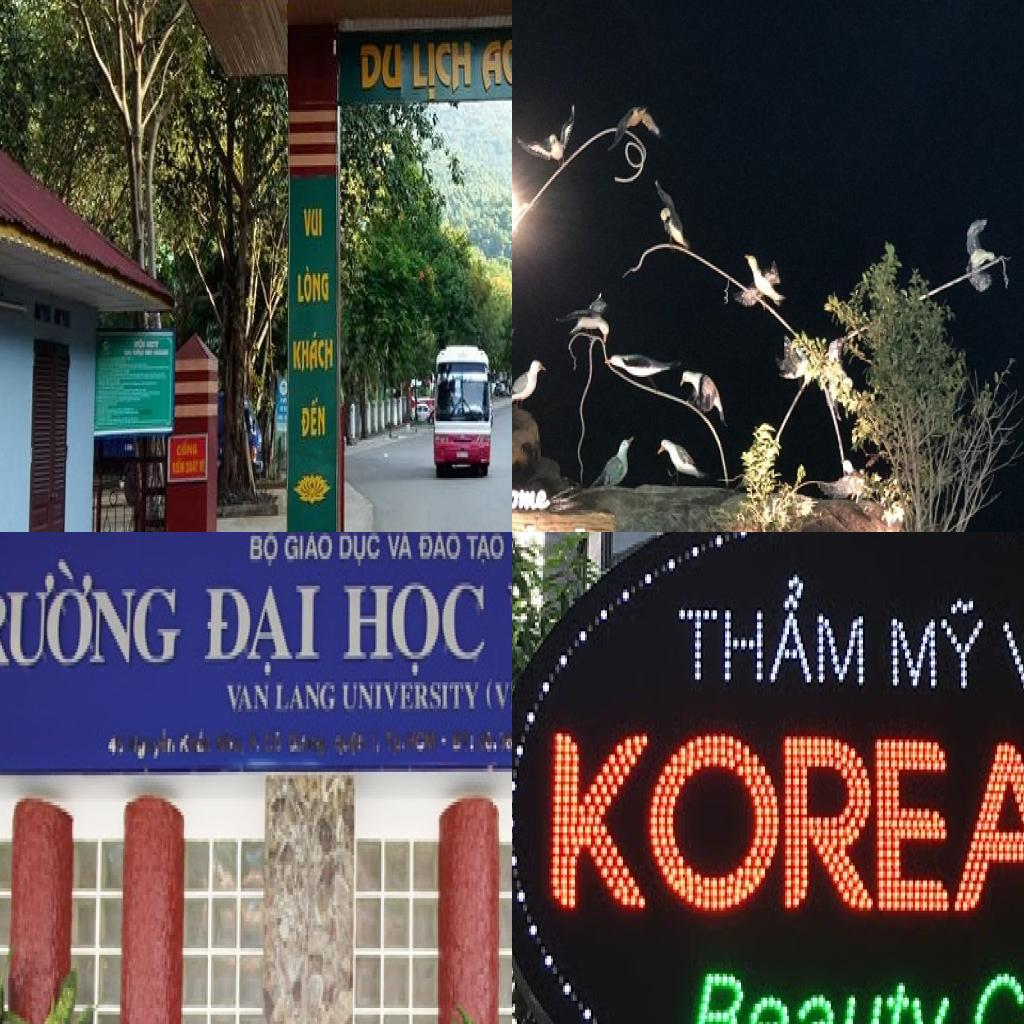text: (549, 730, 1024, 925), (0, 552, 184, 678), (677, 578, 867, 688), (338, 579, 490, 682), (687, 974, 961, 1024), (200, 576, 328, 682), (891, 592, 989, 694), (341, 679, 484, 719), (412, 38, 474, 105), (274, 679, 339, 722), (358, 42, 404, 95), (512, 465, 561, 513), (292, 328, 336, 378), (282, 532, 336, 569), (480, 36, 512, 96), (224, 682, 272, 722), (337, 532, 384, 572), (464, 532, 508, 572), (416, 532, 463, 569), (296, 264, 332, 307), (248, 532, 281, 572), (385, 532, 418, 569), (301, 395, 327, 440), (485, 679, 512, 719), (302, 207, 324, 239), (176, 440, 199, 459)
